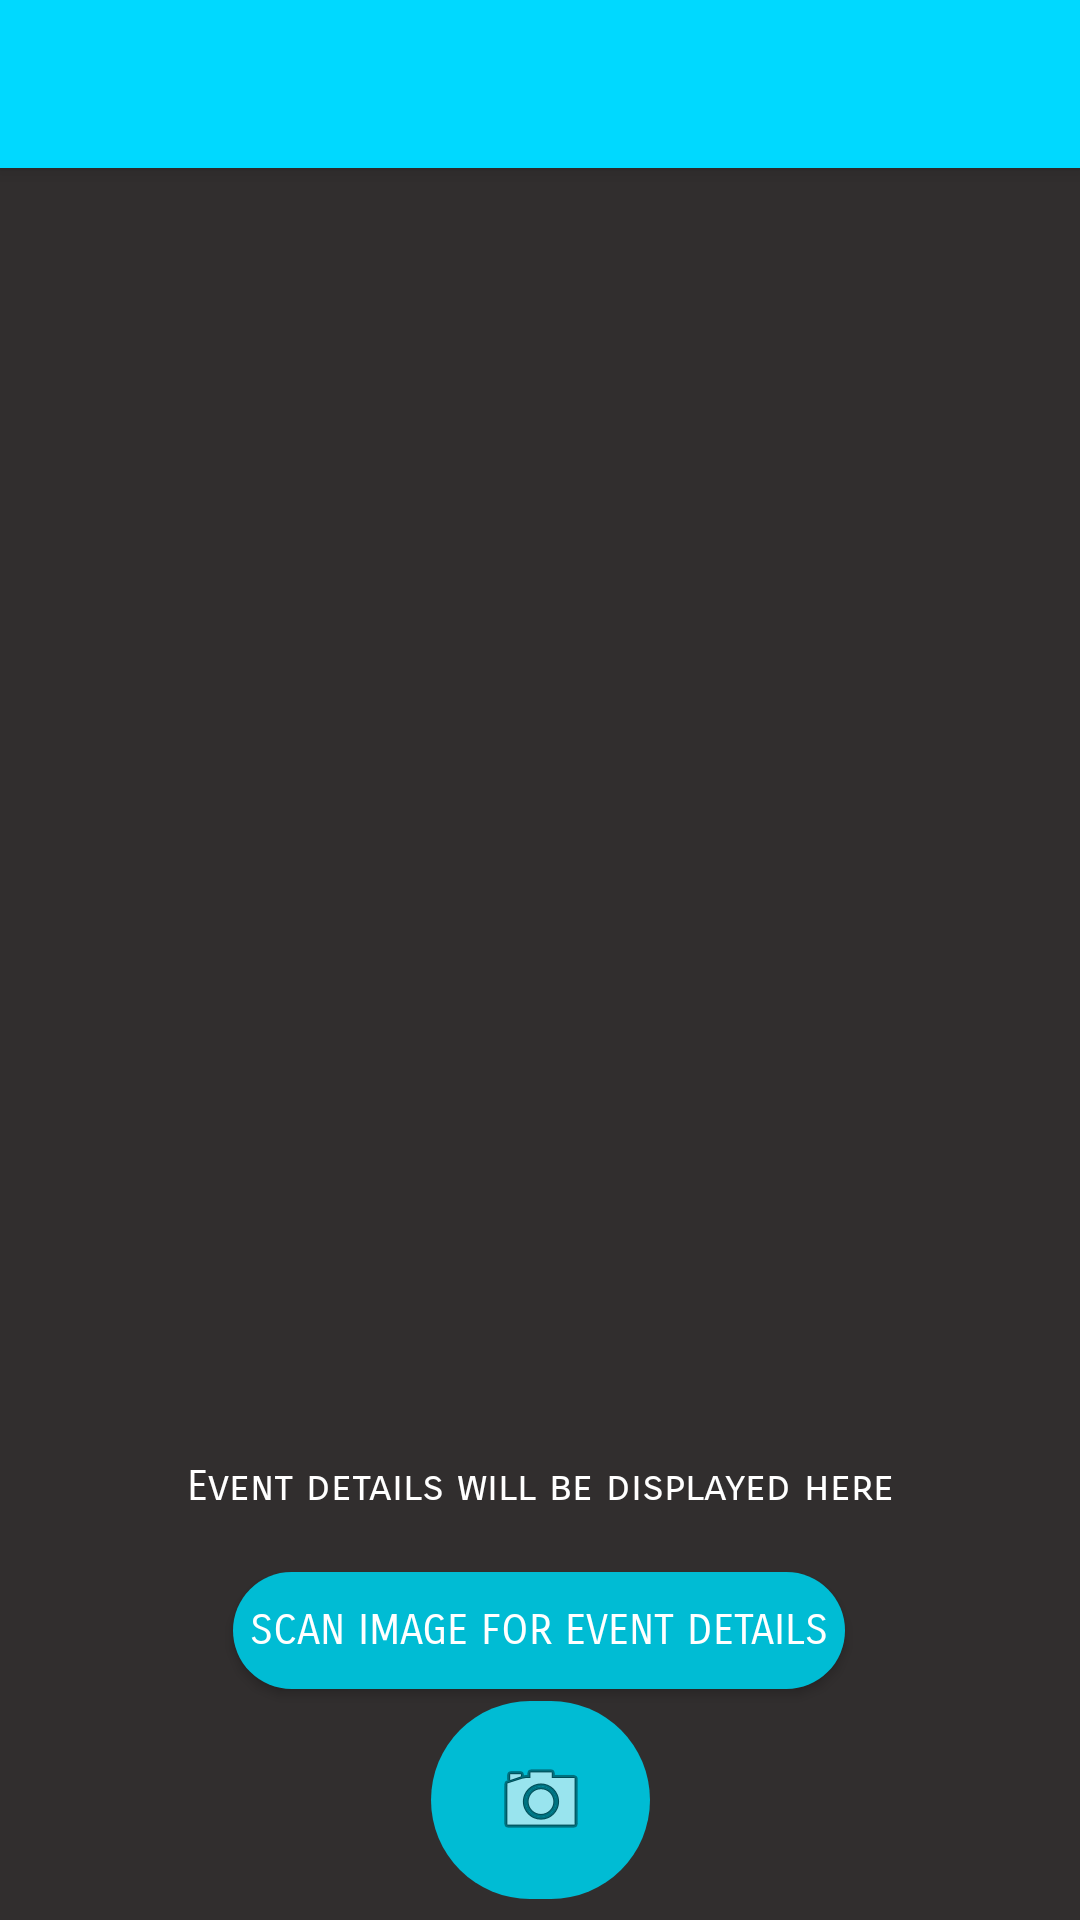

Icons on this 1080x1920 Android screen, each with its box as (x1, y1, x2, y2):
camera: (431, 1701, 650, 1899)
